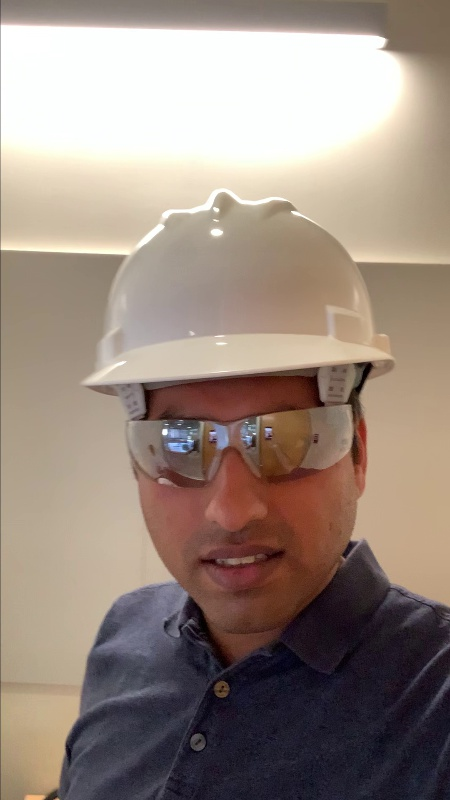glasses: (117, 408, 367, 478)
helmet: (73, 186, 399, 392)
